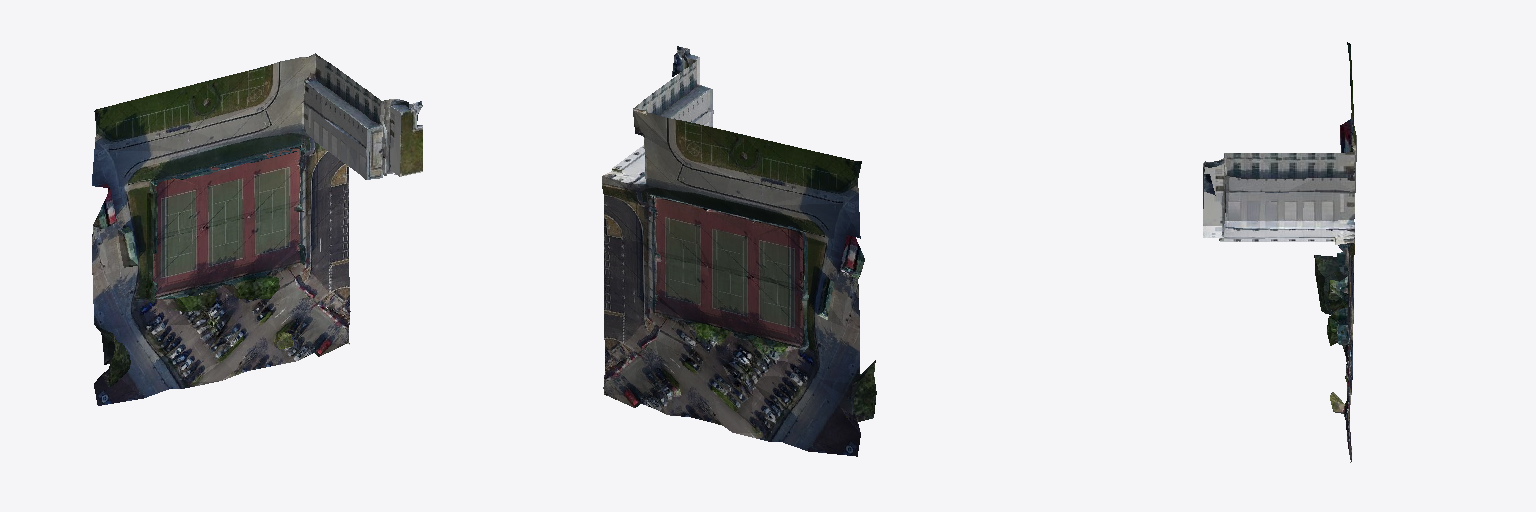
The picture shows the model from 3 angles: view 1: azimuth 30°, elevation 25°; view 2: azimuth 150°, elevation 25°; view 3: azimuth 270°, elevation 25°; orthographic projection.
Visible parts, largest first — view 1: obj_0; view 2: obj_0; view 3: obj_0.
Part boxes in pixels (x1,y1,x2,y2): obj_0: (92, 53, 422, 405); obj_0: (602, 46, 876, 456); obj_0: (1203, 42, 1356, 462).
Size of the model in its own units: 80.26 by 90.11 by 41.62.
1 materials, 1 textured.